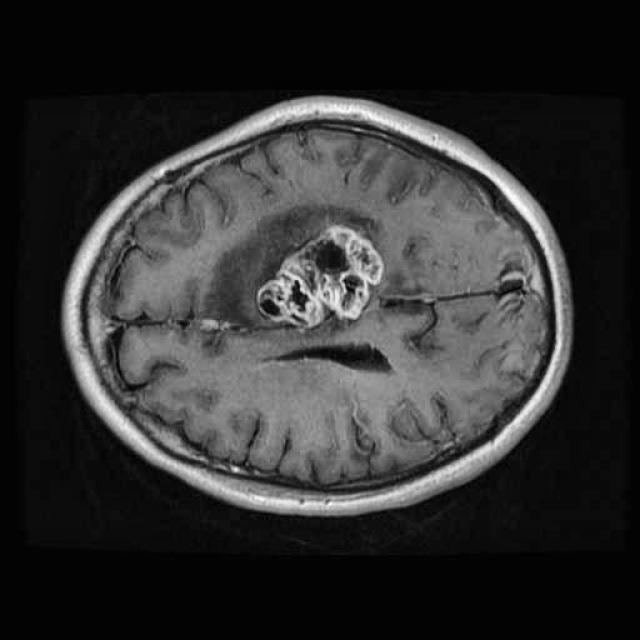Non-Tumor: (202, 195, 388, 340)
